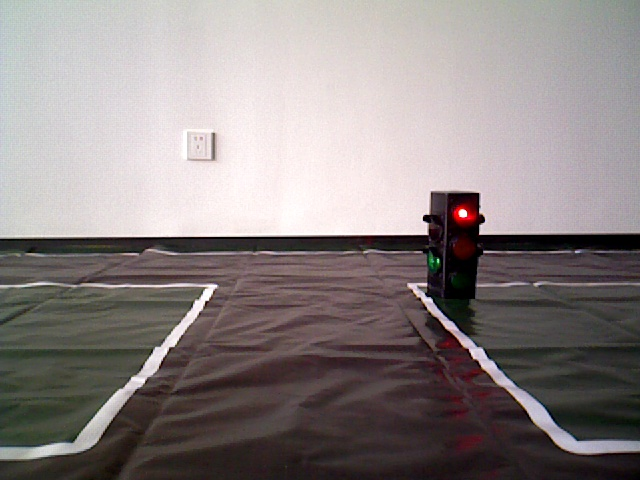red: (429, 192, 477, 297)
